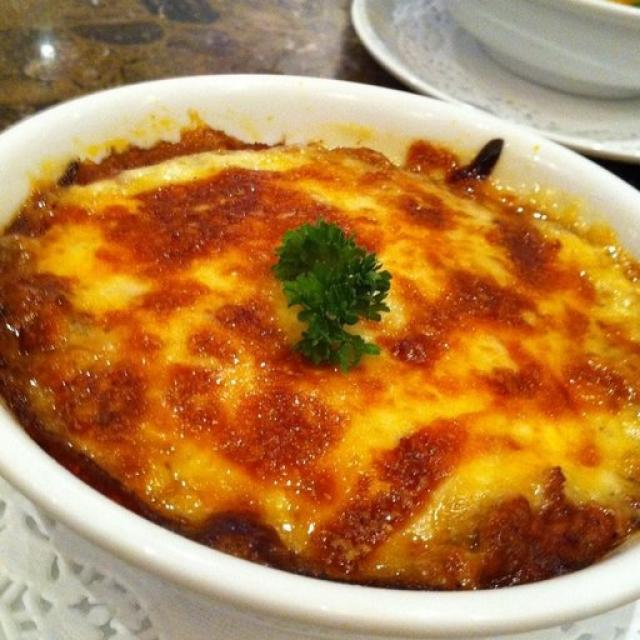Lasagna: (59, 157, 627, 562)
